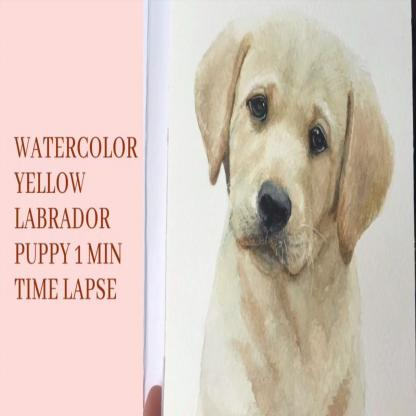Labarador Retriever: (191, 14, 394, 416)
